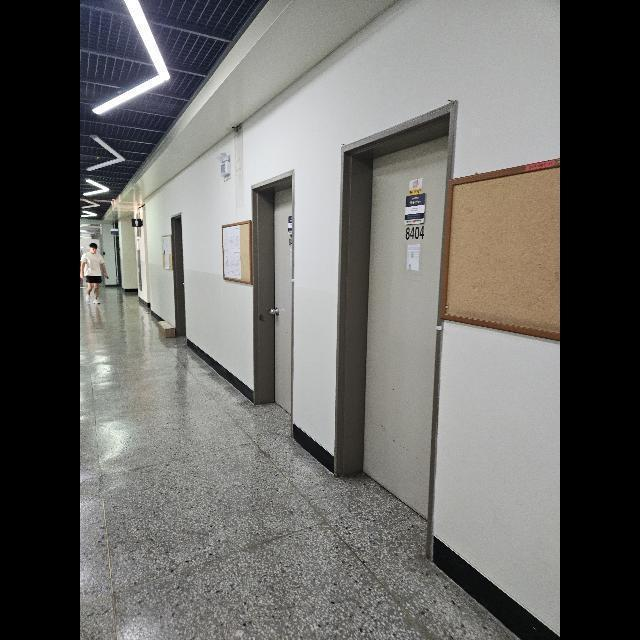door: (358, 130, 451, 524), (262, 184, 304, 418)
